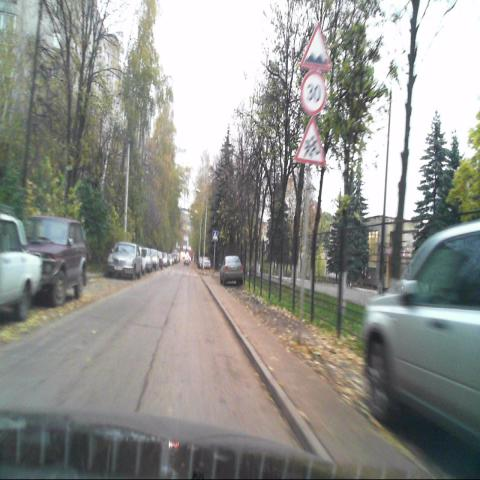1_16: (302, 23, 331, 70)
